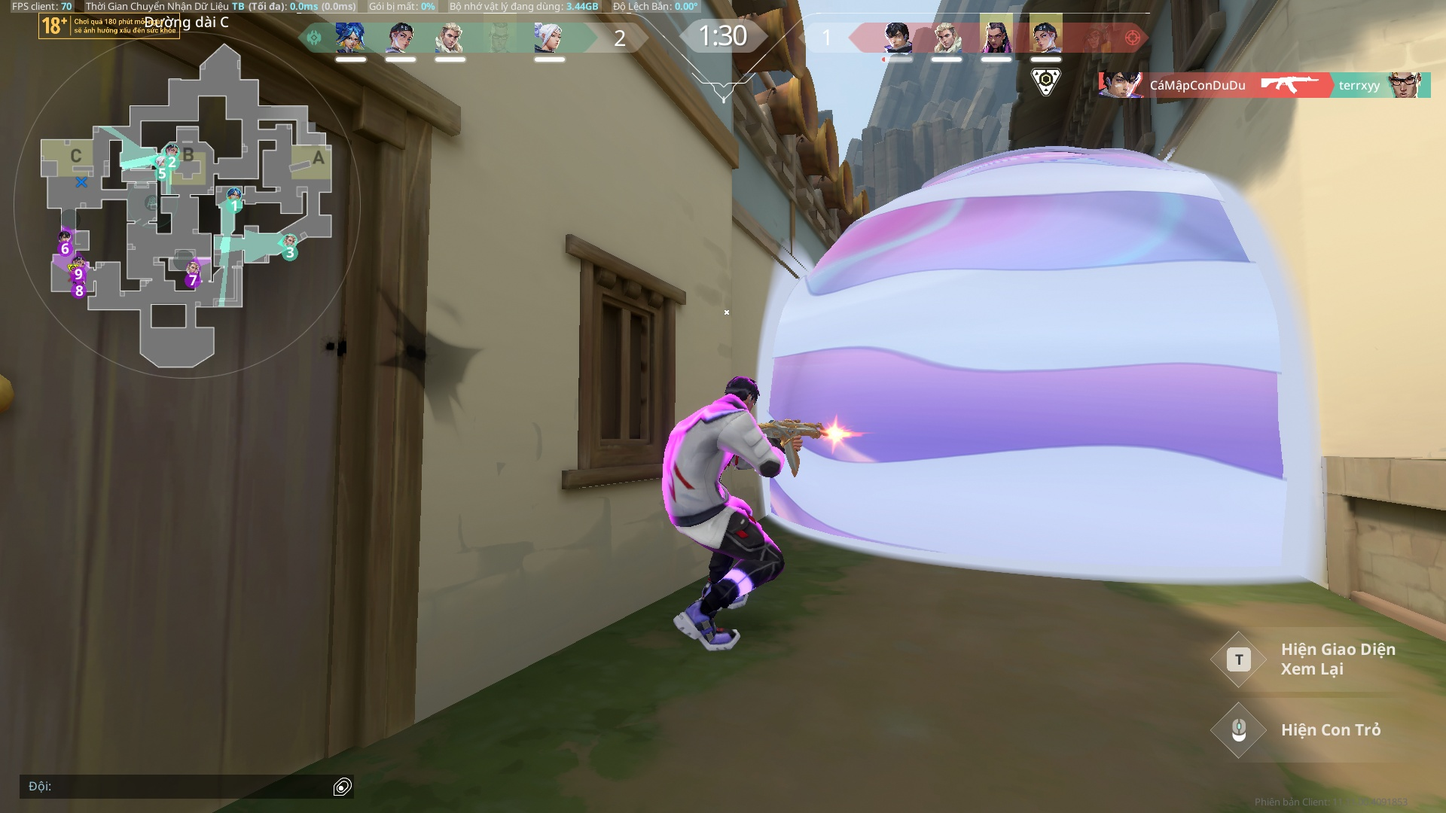body: (670, 394, 759, 510)
head: (723, 371, 758, 410)
